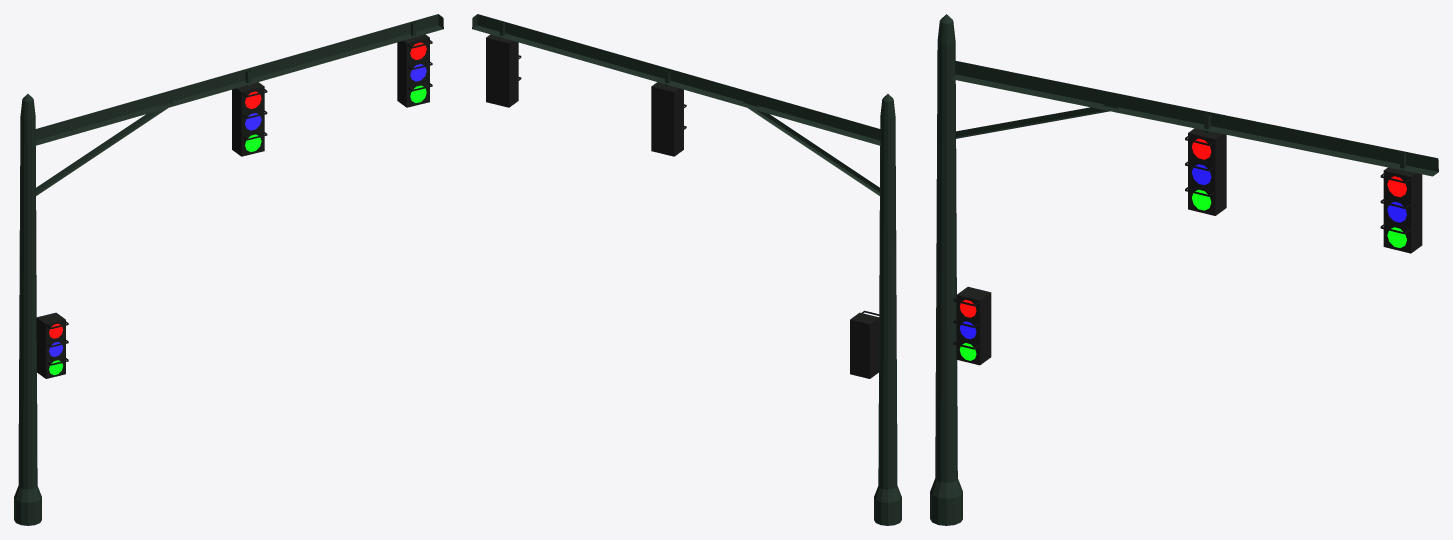
The model's file is traffic_signal.glb.
The picture shows the model from 3 angles, left to right: view 1: azimuth 30°, elevation 25°; view 2: azimuth 150°, elevation 25°; view 3: azimuth 330°, elevation 25°; orthographic projection. The views are drawn at different scales.
Visible parts, largest first — view 1: traffic_signal; view 2: traffic_signal; view 3: traffic_signal.
Boxes of the visible parts, box(x1,y1,x2,y2) form: traffic_signal: box(14, 14, 443, 525); traffic_signal: box(472, 14, 901, 525); traffic_signal: box(930, 14, 1438, 525).
Size of the model in its own units: 7.72 by 7.4 by 0.4903.
Materials: 1 (1 with a texture image).
